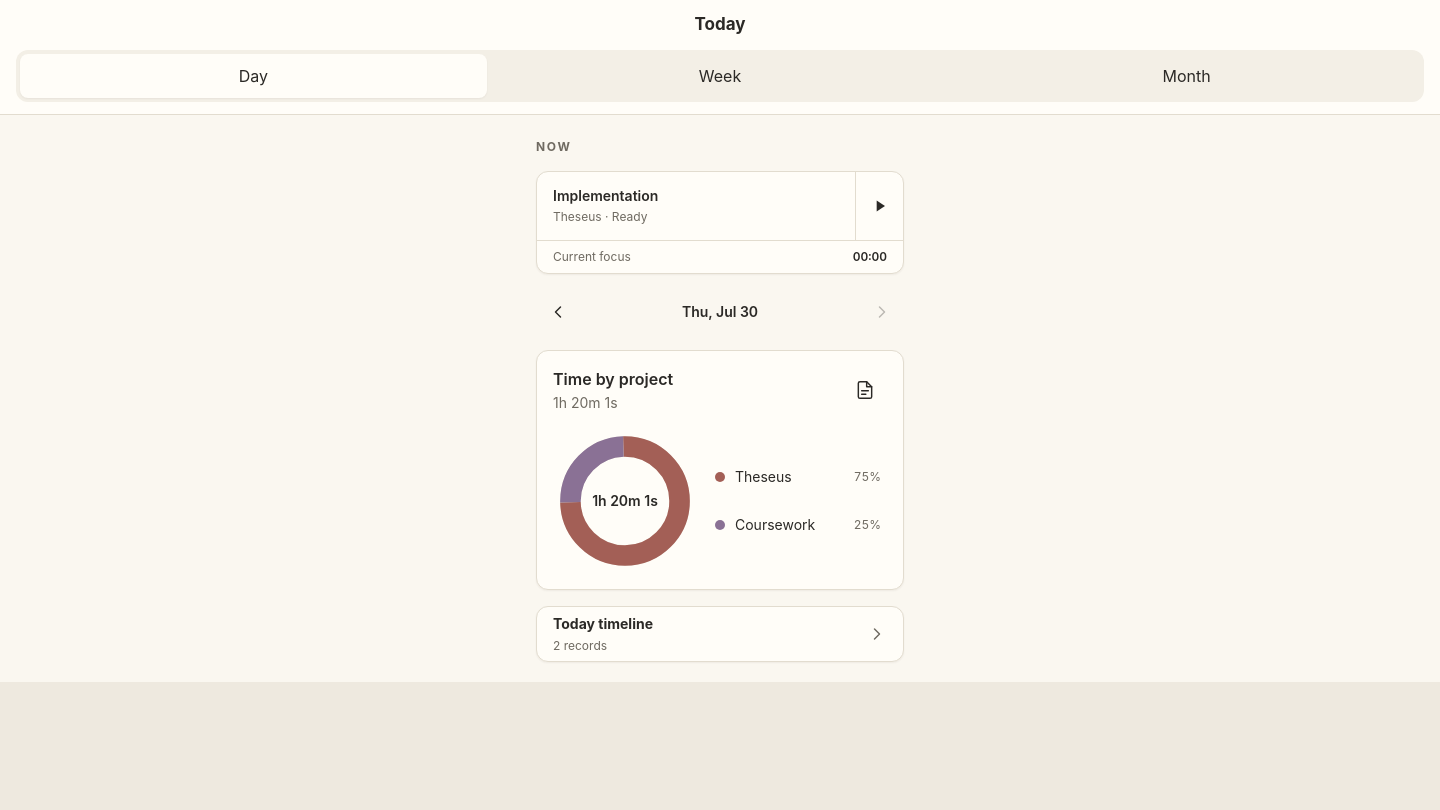
TodayScreen › navigates historical Day evidence without changing Current Focus
This screenshot has width=1440, height=810.
expect the text "Implementation" is shown: met, box [553,187,658,204]
expect the button named "Next day" is disabled: met, box [860,290,904,334]
Click the button named "Previous day": (558, 312) [536,290,580,334]
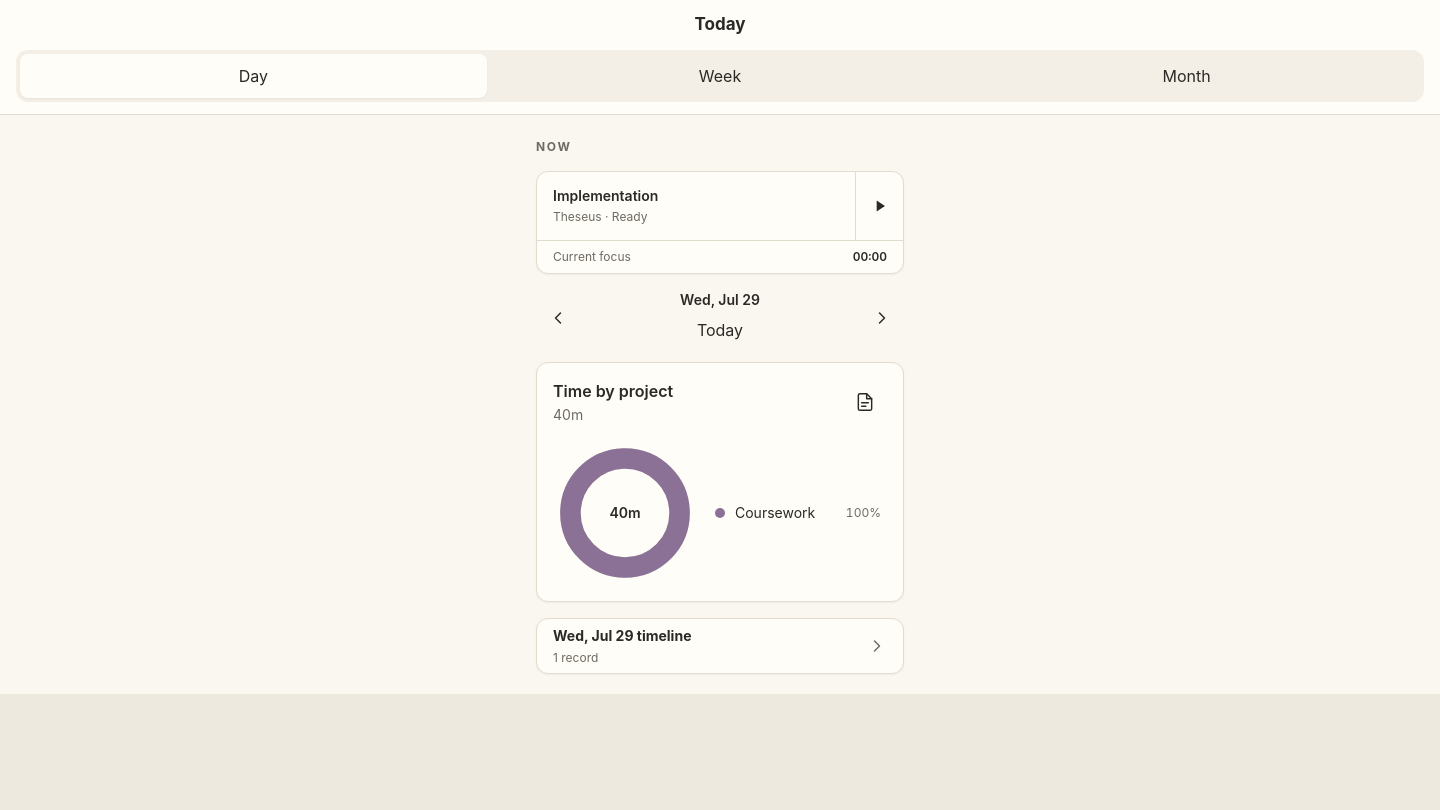
expect the text "Implementation" is shown: met, box [553,187,658,204]
expect the text "Wed, Jul 29" is shown: met, box [680,290,760,308]
expect the button named "Next day" is enabled: met, box [860,296,904,340]
Click the button "Today": (720, 330) [685,314,755,346]
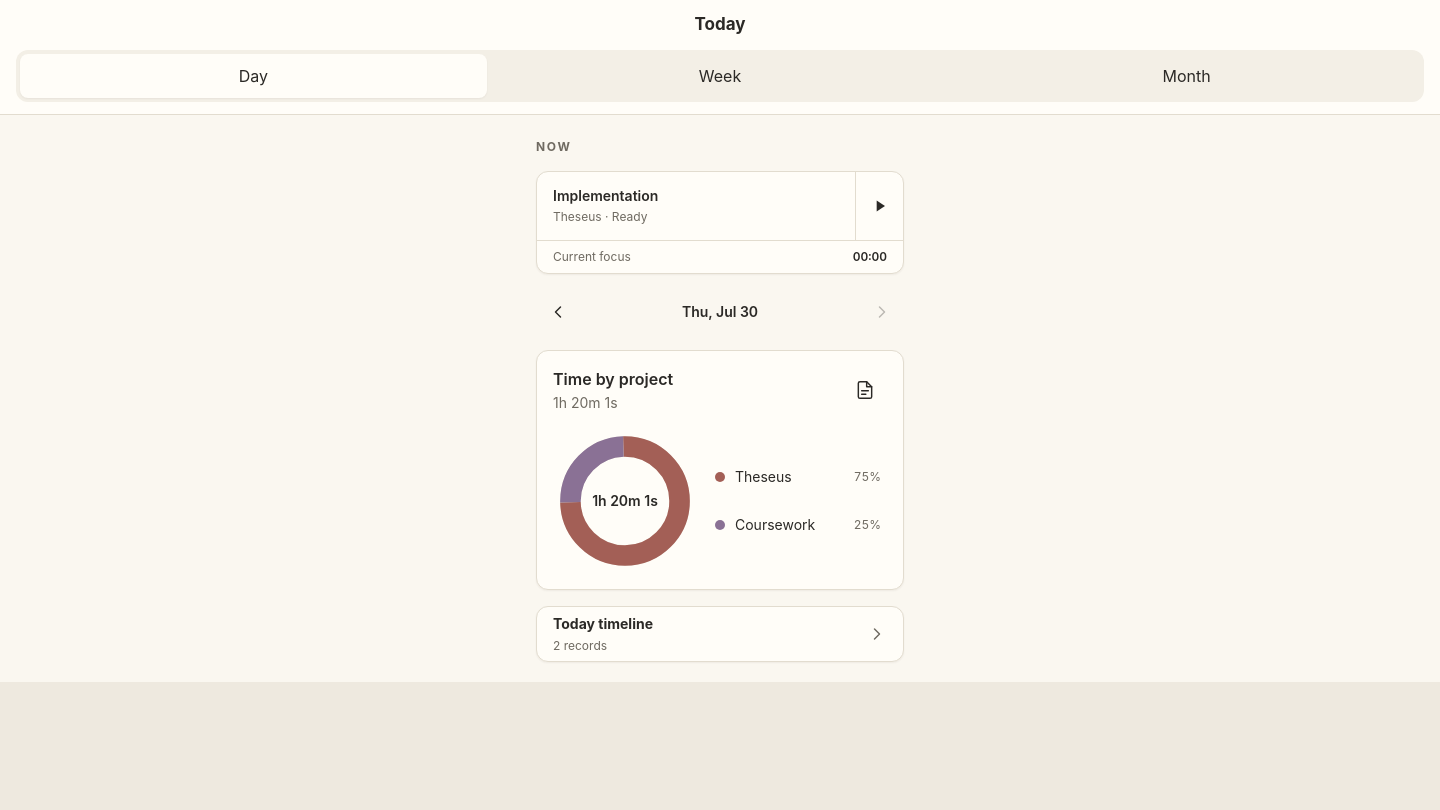
expect the text "Thu, Jul 30" is shown: met, box [682,302,758,320]
